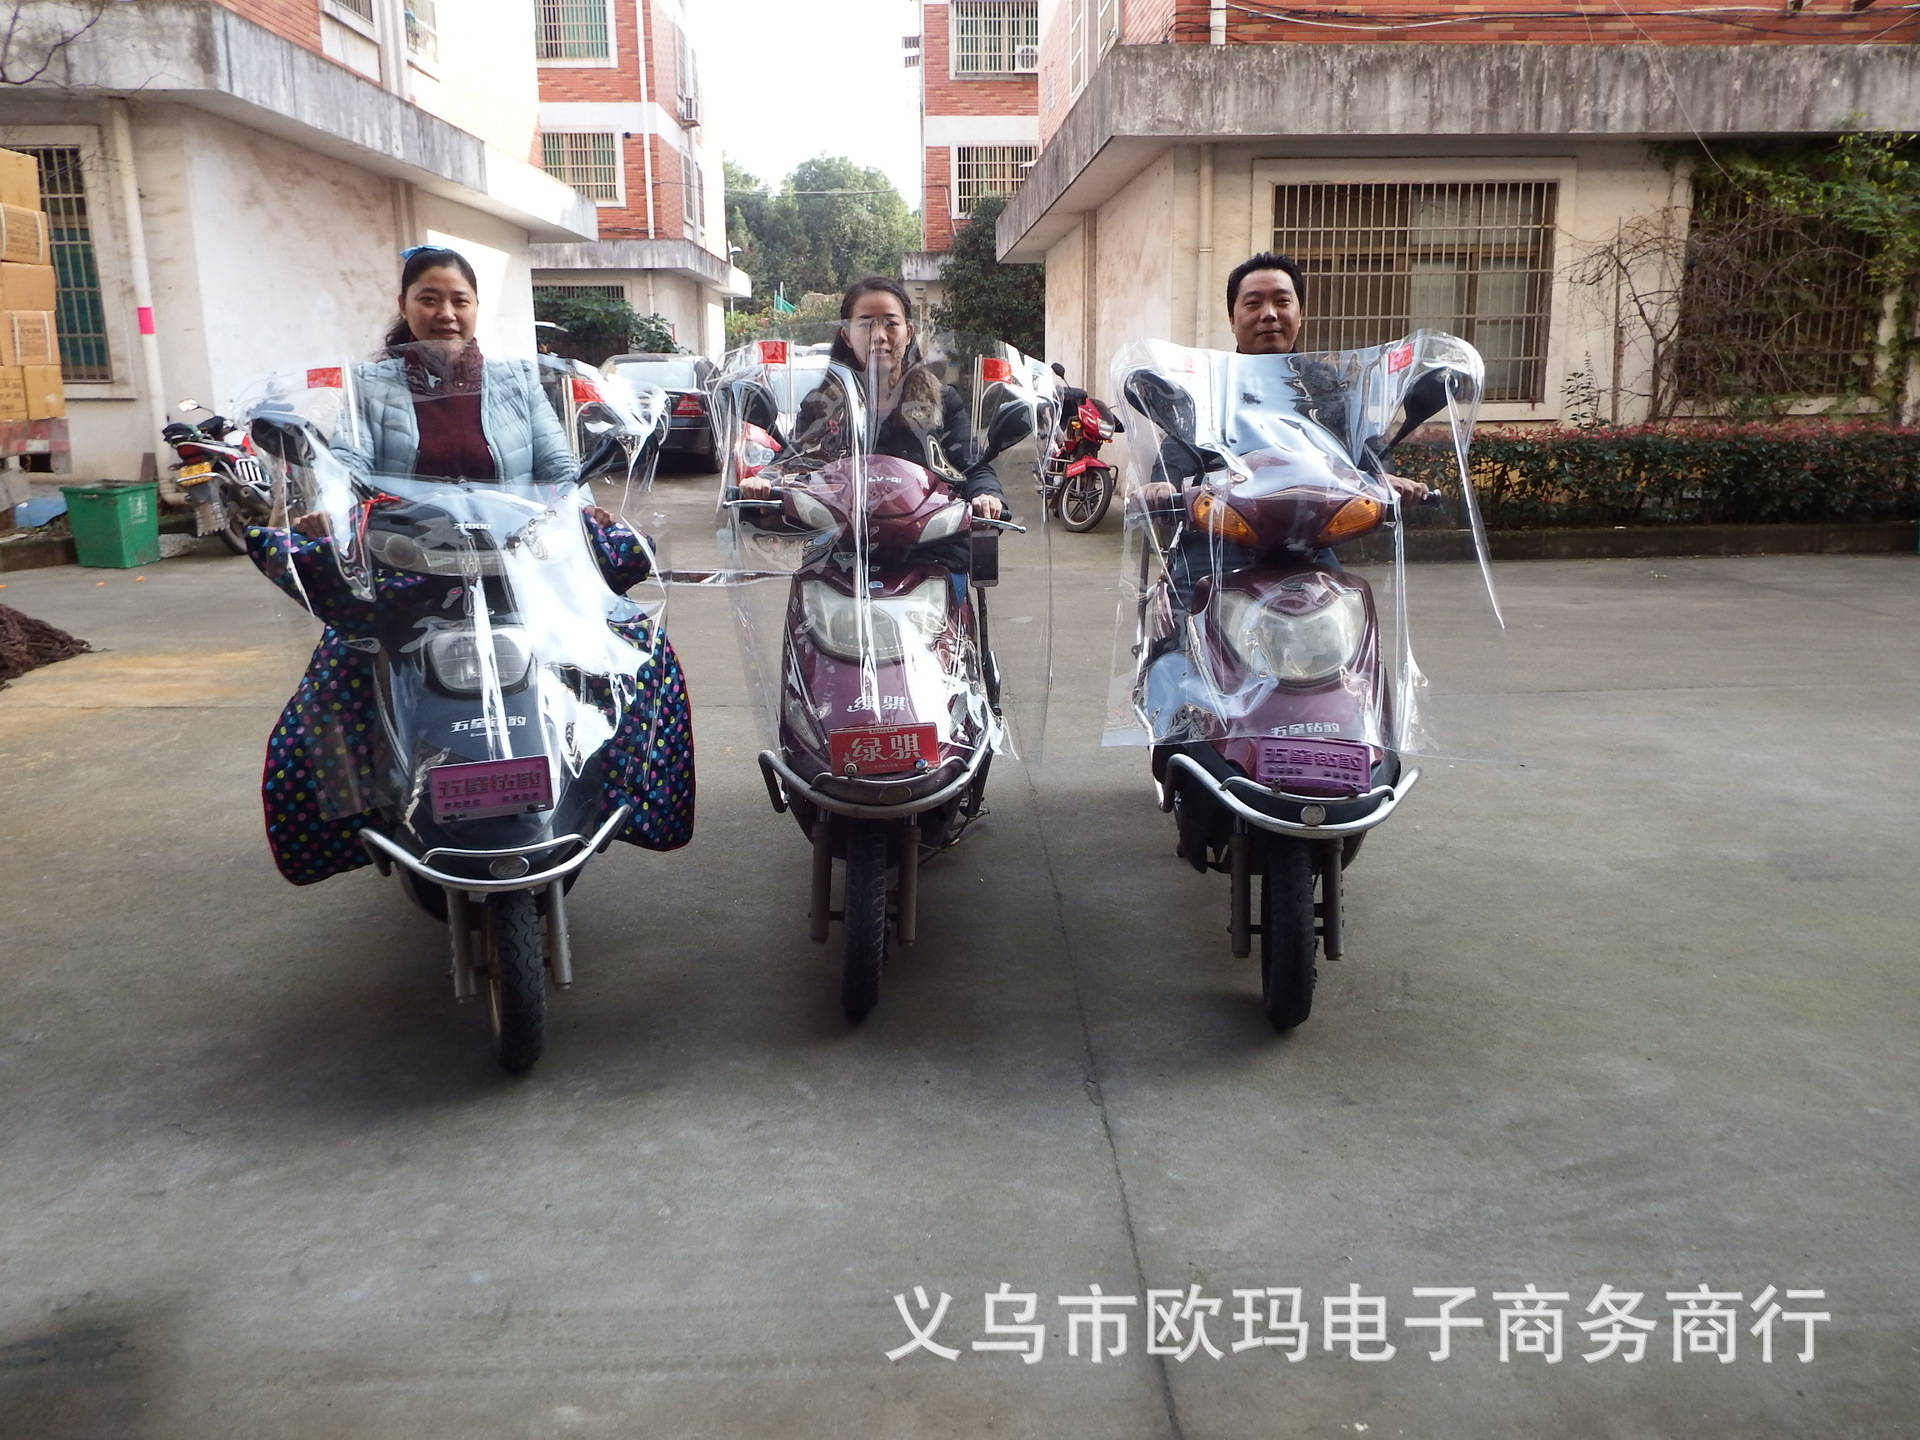电动车: (222, 372, 732, 1097), (1122, 321, 1477, 1054), (694, 346, 1039, 1003)
